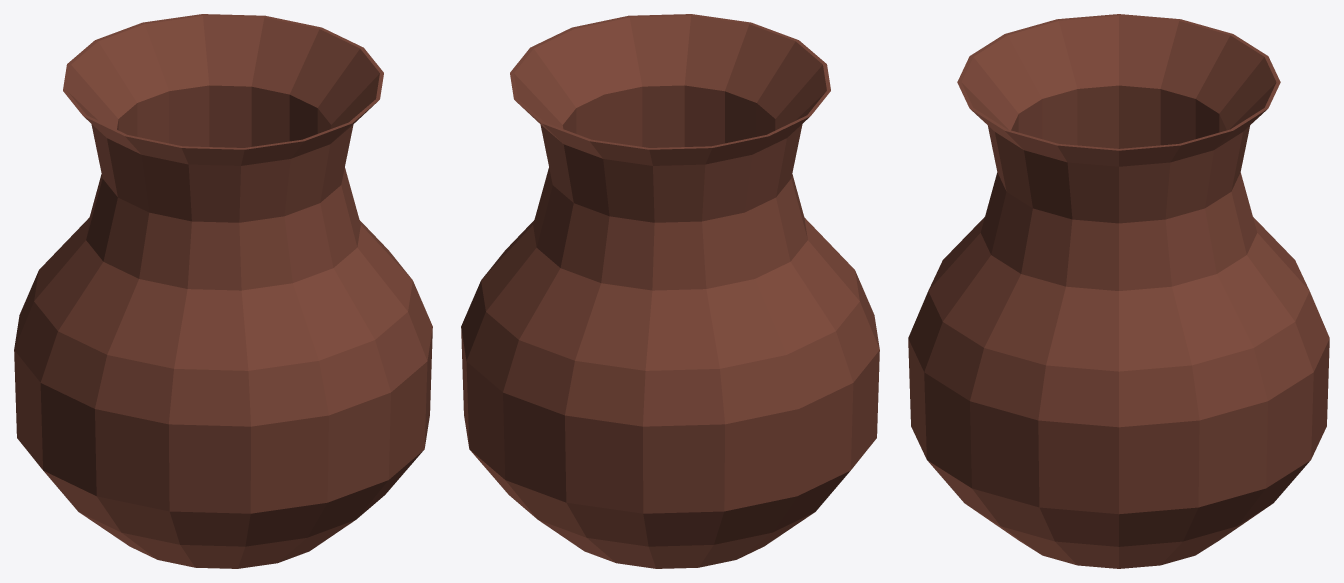
The model's file is vaas1.fbx.
3 renders of one model, left to right at view 1: azimuth 30°, elevation 25°; view 2: azimuth 150°, elevation 25°; view 3: azimuth 270°, elevation 25°, orthographic.
Parts seen in each view (by area): view 1: Cylinder; view 2: Cylinder; view 3: Cylinder.
Boxes of the visible parts, x1,y1,x2,y2 form: Cylinder: [14, 14, 432, 568]; Cylinder: [461, 14, 879, 568]; Cylinder: [908, 14, 1329, 568].
Size of the model in its own units: 0.26 by 0.3 by 0.26.
